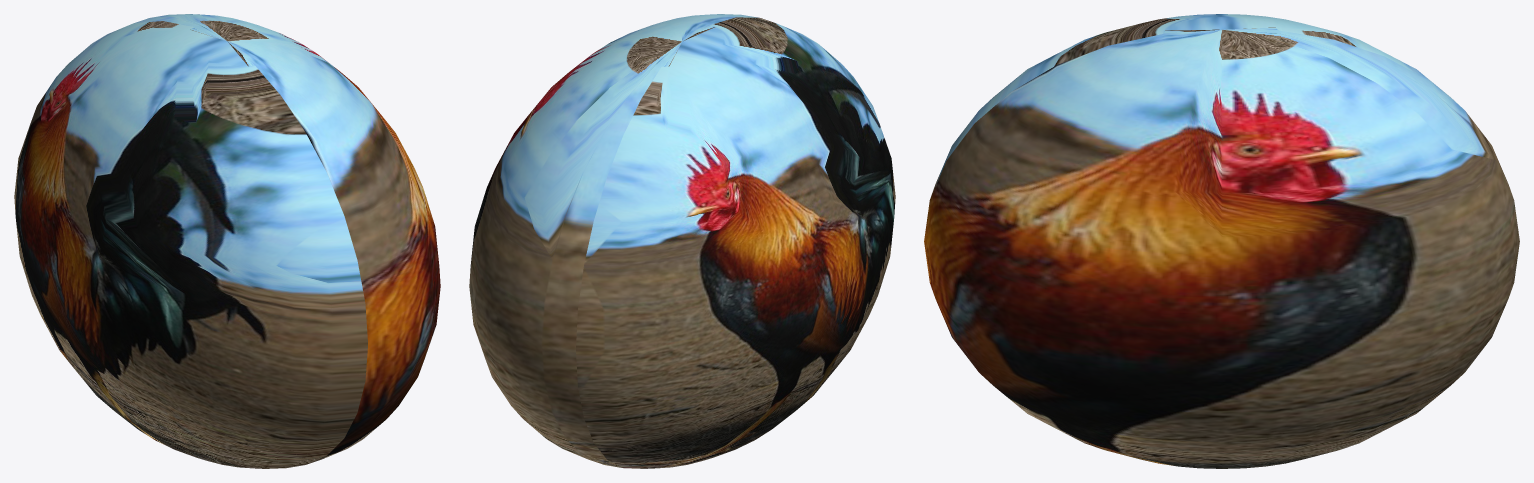
File: simpleRooster.FBX
The picture shows the model from 3 angles, left to right: view 1: azimuth 30°, elevation 25°; view 2: azimuth 150°, elevation 25°; view 3: azimuth 270°, elevation 25°; orthographic projection. The views are drawn at different scales.
Visible parts, largest first — view 1: Sphere01; view 2: Sphere01; view 3: Sphere01.
Boxes of the visible parts, left/top/right/bottom form: Sphere01: left=14, top=14, right=440, bottom=468; Sphere01: left=469, top=14, right=895, bottom=468; Sphere01: left=924, top=14, right=1519, bottom=468.
Bounding box in the file's own units: 152 × 181 × 231.
Materials: 1 (1 with a texture image).
